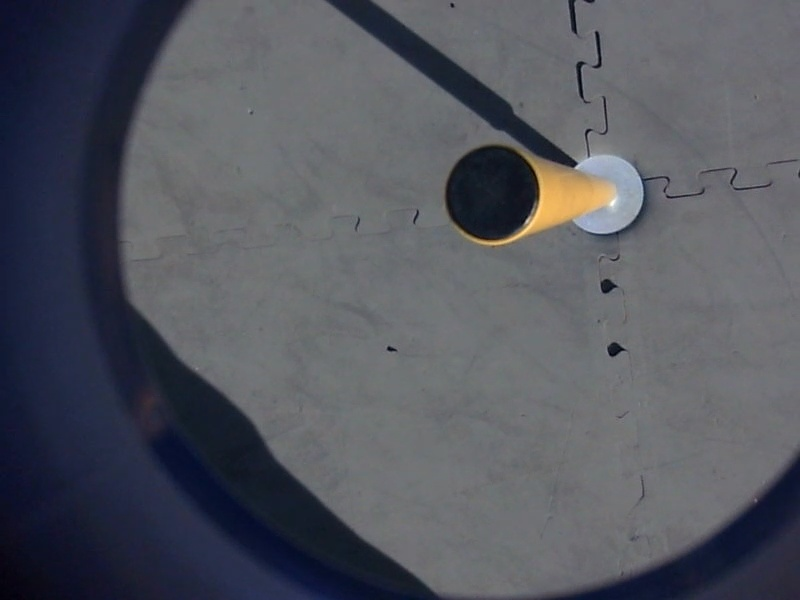tip: (439, 139, 548, 254)
